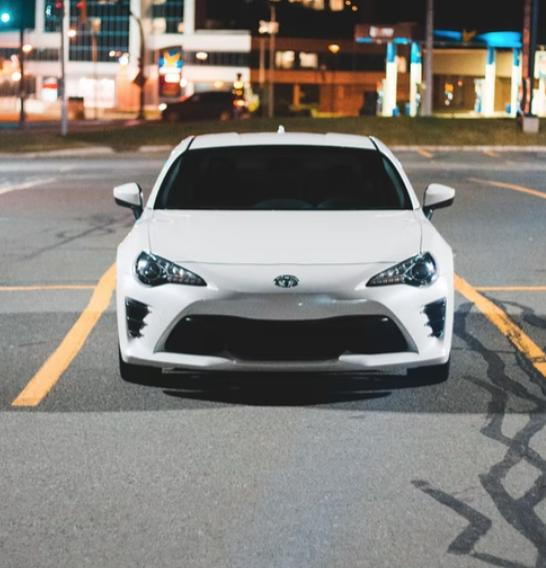car: (98, 100, 472, 417)
